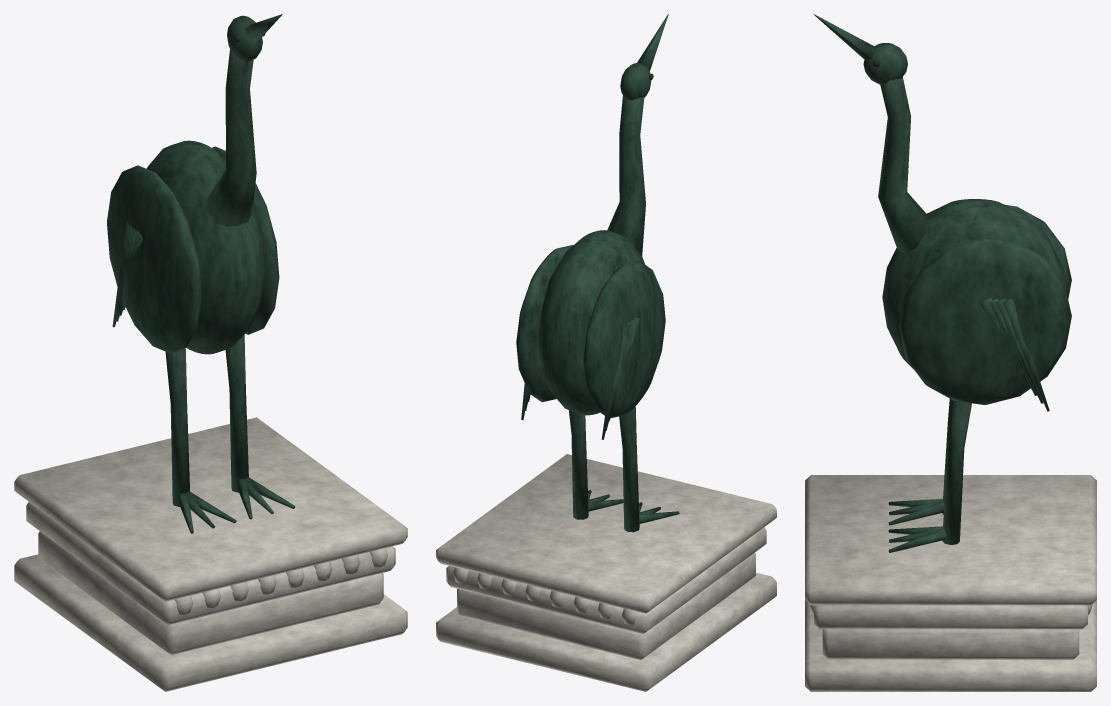
Rendered from kurki.glb.
3 renders of one model, left to right at view 1: azimuth 30°, elevation 25°; view 2: azimuth 150°, elevation 25°; view 3: azimuth 270°, elevation 25°, orthographic. The views are drawn at different scales.
Parts seen in each view (by area): view 1: vaalea-kivi, vihrea-pronssipatina; view 2: vaalea-kivi, vihrea-pronssipatina; view 3: vaalea-kivi, vihrea-pronssipatina.
Boxes of the visible parts, x1,y1,x2,y2 form: vaalea-kivi: [14, 417, 407, 691]; vihrea-pronssipatina: [107, 14, 295, 533]; vaalea-kivi: [436, 454, 776, 691]; vihrea-pronssipatina: [516, 14, 679, 532]; vaalea-kivi: [805, 475, 1096, 691]; vihrea-pronssipatina: [813, 14, 1071, 552].
Size of the model in its own units: 0.7997 by 2 by 0.8497.
2 materials, 2 textured.
